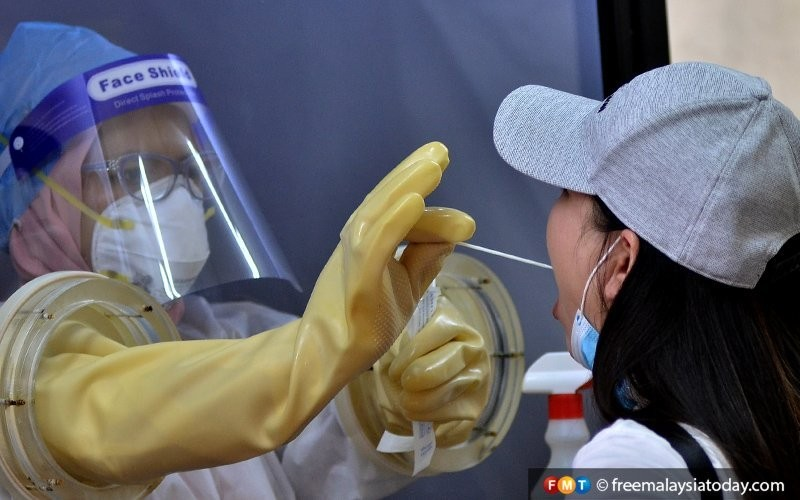Face Shield: (6, 53, 306, 299)
Gloves: (111, 137, 481, 497), (375, 308, 513, 466)
mask_weared_incorrect: (539, 182, 625, 376)
with_mask: (77, 162, 217, 309)
